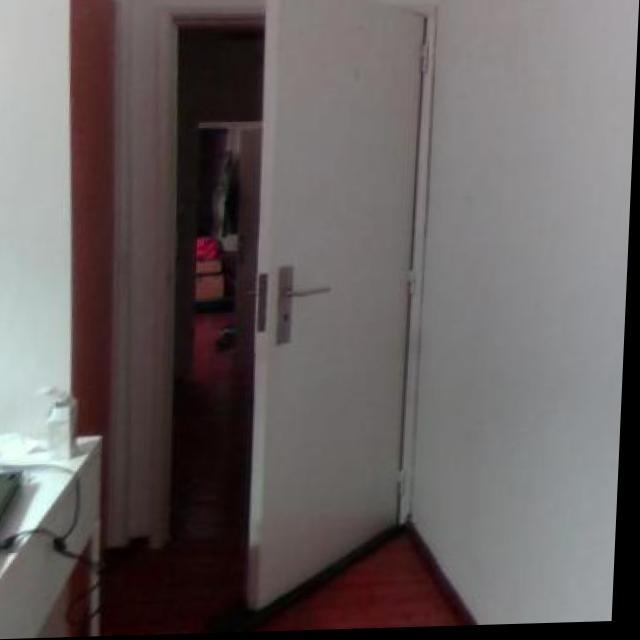door_handle: (285, 283, 336, 308)
